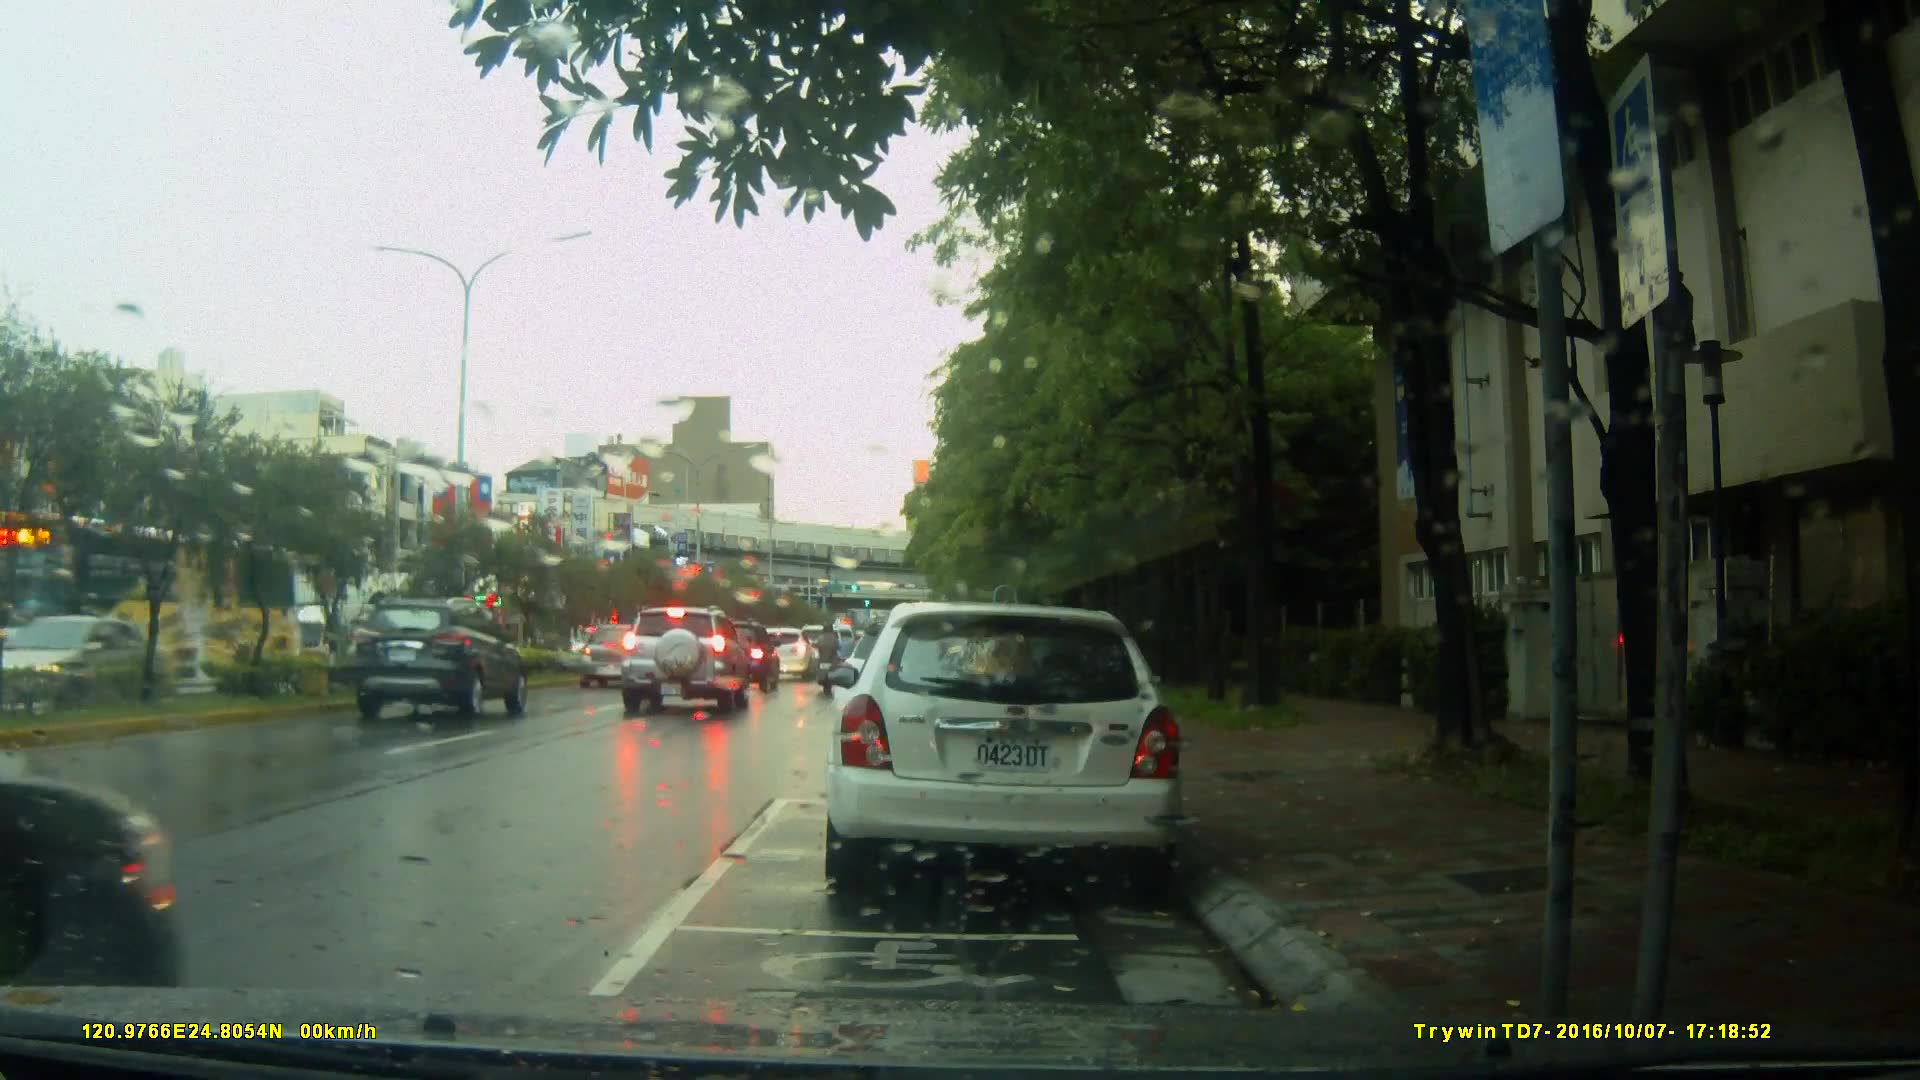rider: (811, 620, 847, 703)
vehicle: (820, 602, 1188, 898), (2, 528, 317, 686), (349, 592, 531, 720), (615, 605, 749, 719)
